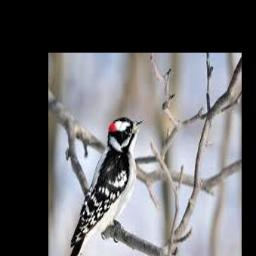Woodpecker: (63, 117, 145, 256)
